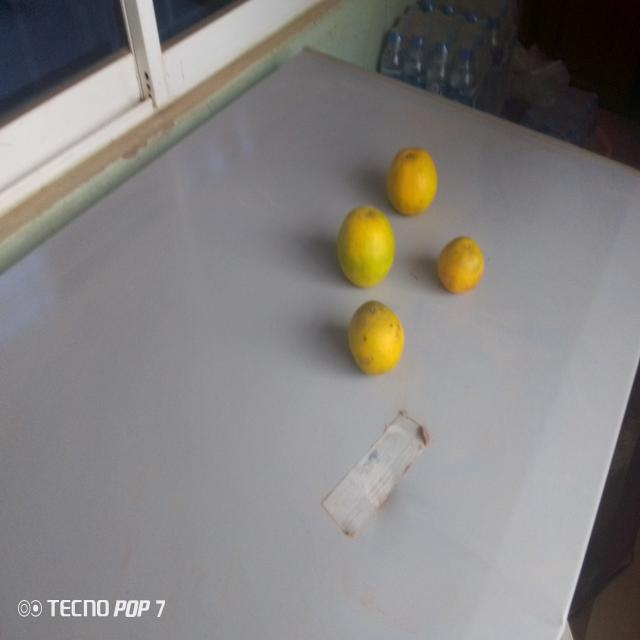Ripe orange: (345, 296, 410, 390), (334, 207, 395, 286), (430, 232, 493, 304), (382, 145, 442, 213)
